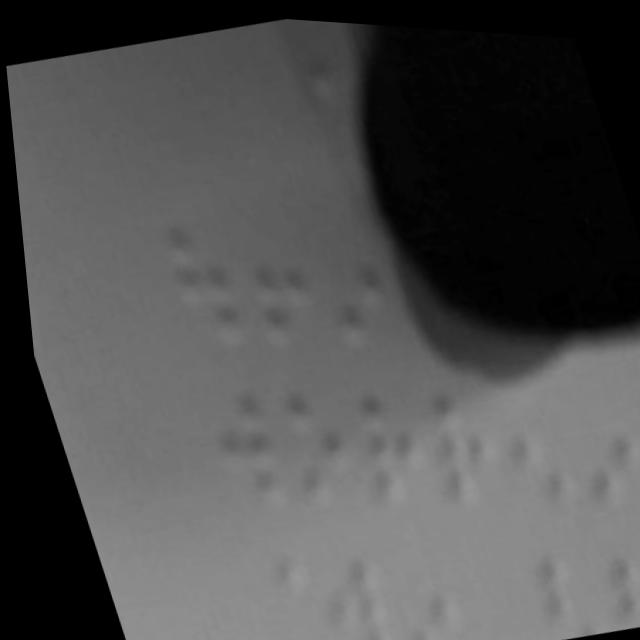braiile: (294, 194, 408, 355), (216, 190, 326, 352), (149, 202, 257, 364), (406, 363, 519, 515), (185, 364, 292, 518), (336, 371, 444, 523), (258, 373, 369, 520), (479, 366, 582, 513), (548, 354, 640, 510), (297, 537, 400, 640)
